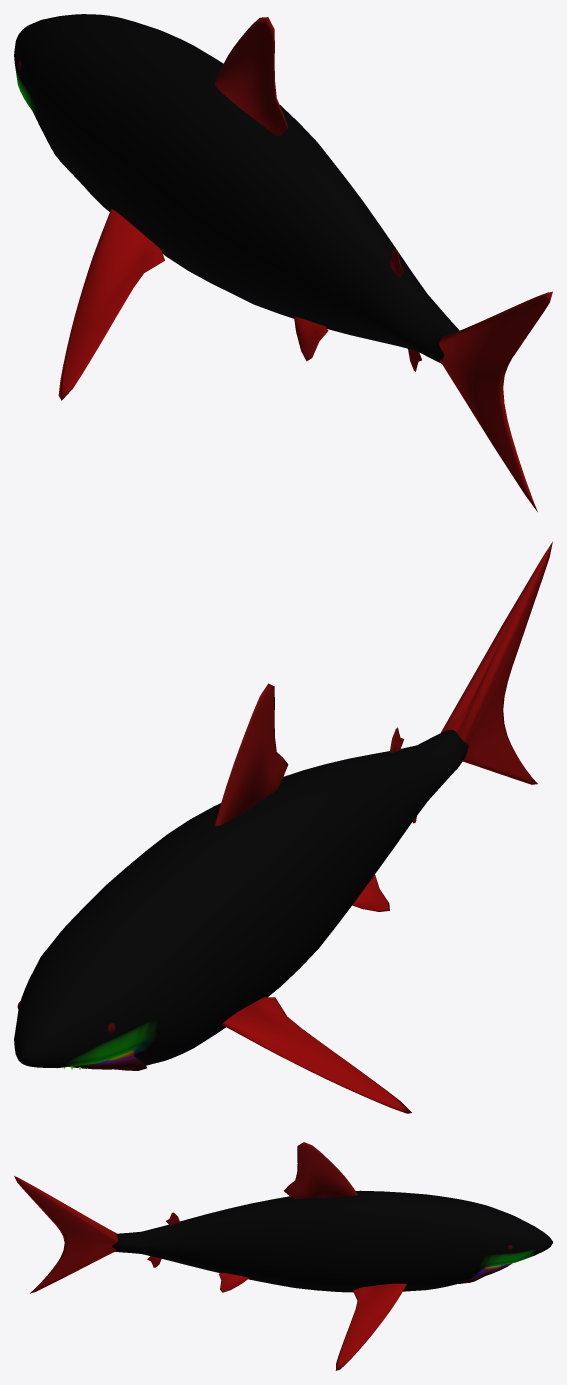
Rendered from white_shark_game.glb.
3 renders of one model, top to bottom at view 1: azimuth 30°, elevation 25°; view 2: azimuth 150°, elevation 25°; view 3: azimuth 270°, elevation 25°, orthographic. The views are drawn at different scales.
Parts seen in each view (by area): view 1: white_shark_game; view 2: white_shark_game; view 3: white_shark_game.
Boxes of the visible parts, bbox=[...] form: white_shark_game: bbox=[14, 14, 552, 511]; white_shark_game: bbox=[14, 541, 552, 1113]; white_shark_game: bbox=[14, 1142, 552, 1370].
Size of the model in its own units: 1.84 by 1.82 by 4.8.
